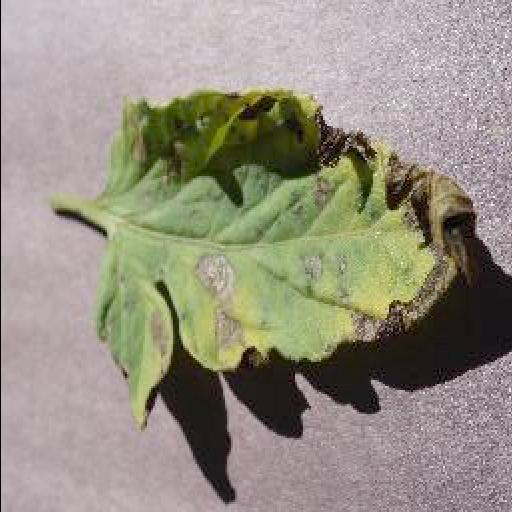disease_tomato: (96, 96, 478, 434)
